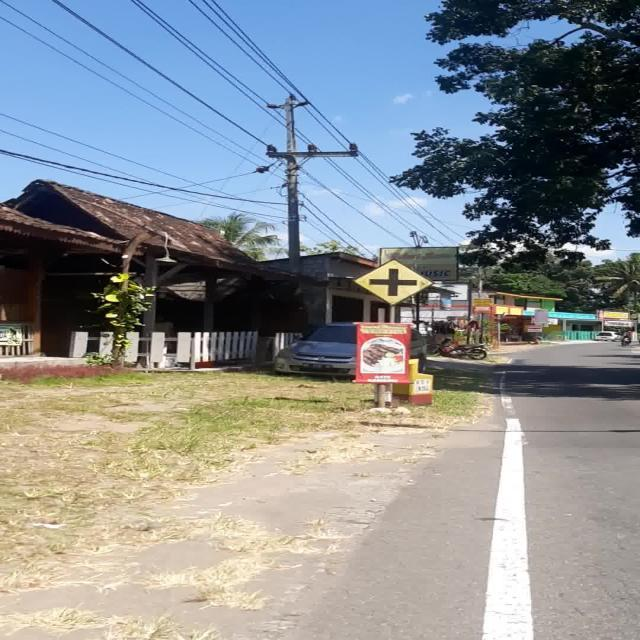Persimpangan 4: (353, 258, 435, 306)
